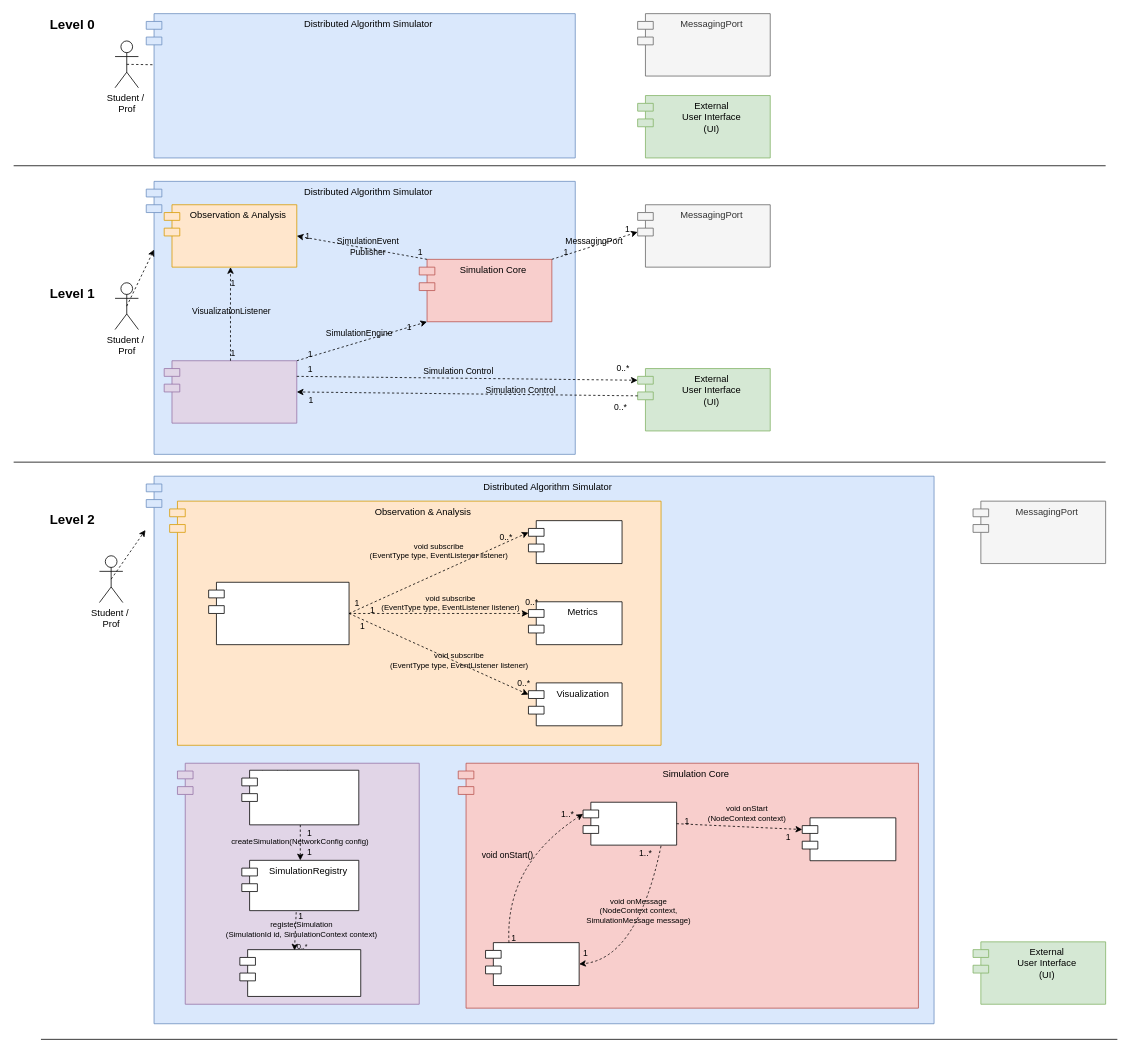
This 1132x1054 diagram has some shape labels left out. The centre of each missing label's shape, as x and y in pixels:
"ElectionAlgorithm" goes at point 848,839.
"EventBus" goes at point 278,613.
"Logging" goes at point 575,542.
"Node" goes at point 629,823.
"Simulation Management (Facade Layer)" goes at point 230,391.
"SimulationContext" goes at point 300,972.
"SimulationControl Service" goes at point 300,797.
"SimulationCore Engine" goes at point 532,964.
